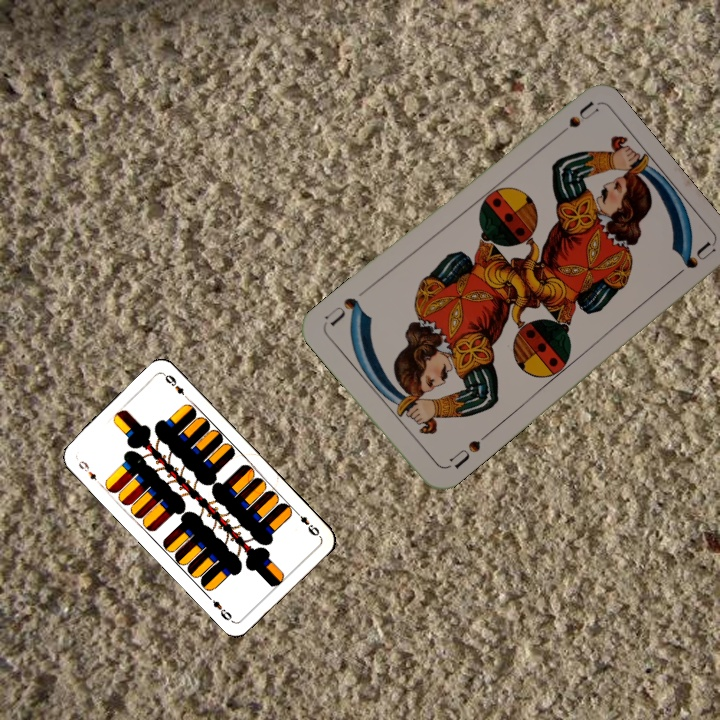E9: (291, 507, 322, 539), (74, 457, 99, 483)
SU: (547, 98, 600, 144), (445, 429, 491, 472)
